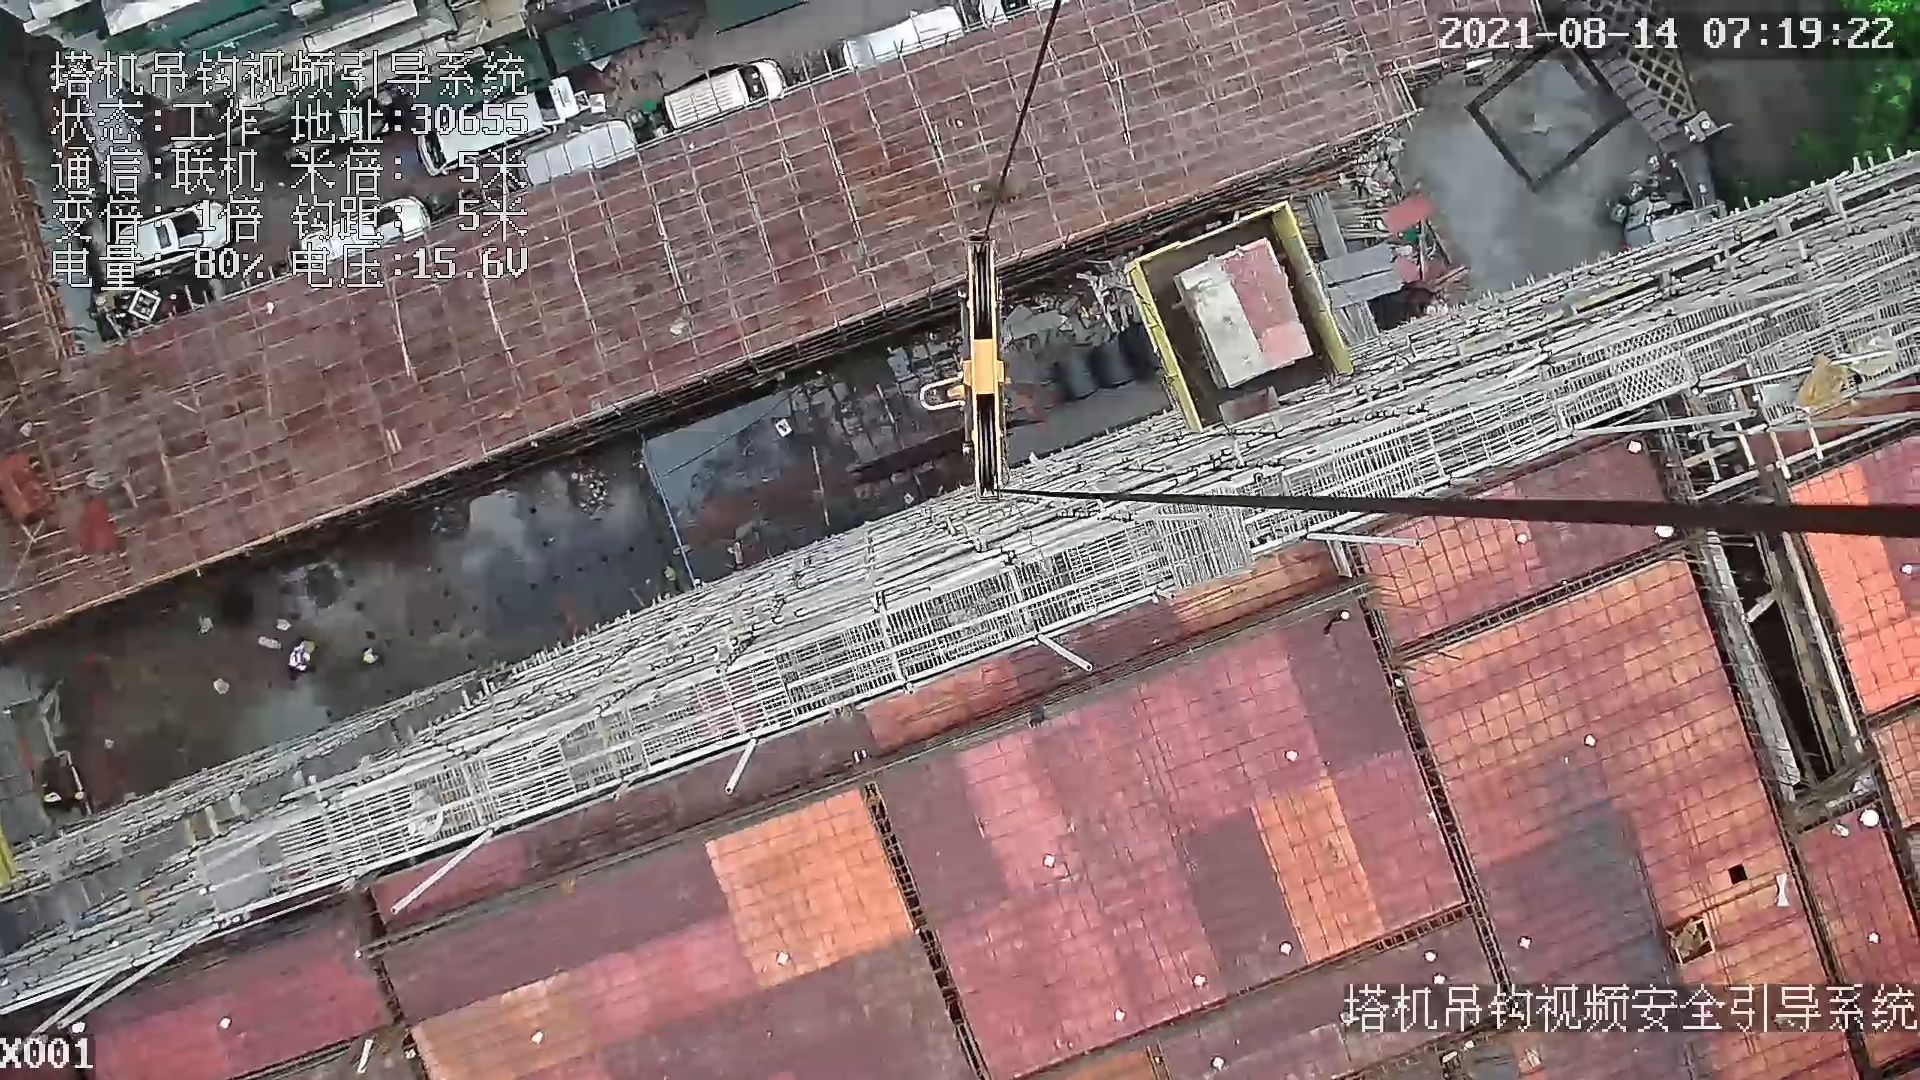hook: (915, 233, 1013, 512)
